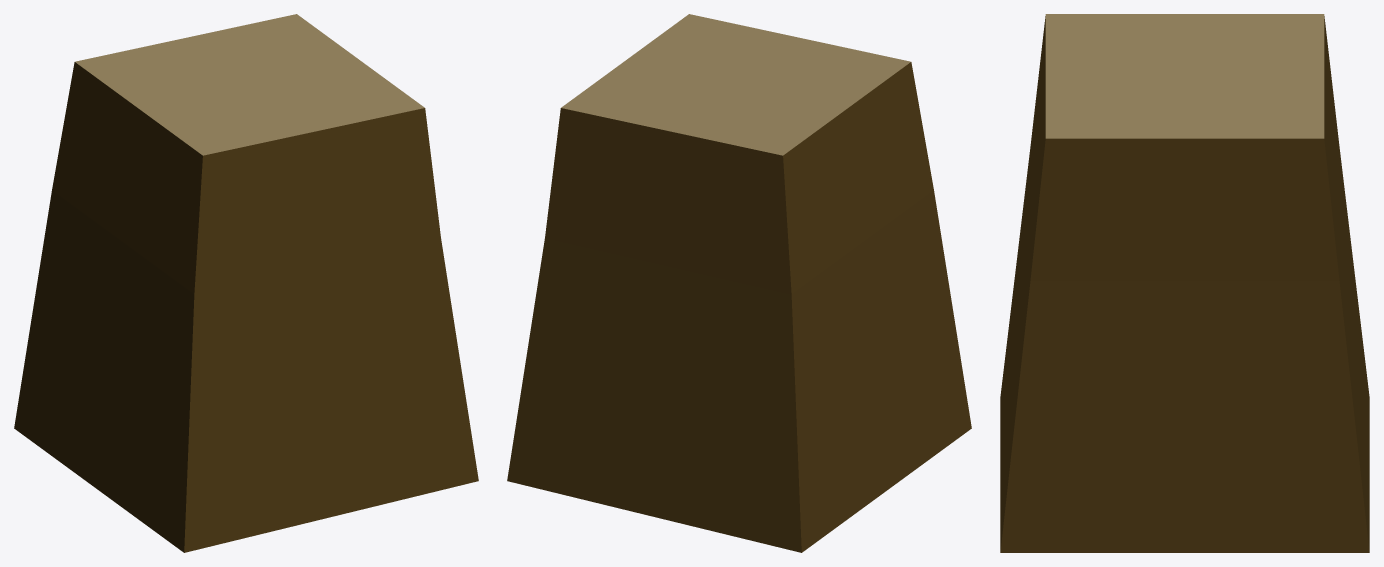
Rendered from Tree_Poplar_Stump.fbx.
3 views of the same model, side by side, from view 1: azimuth 30°, elevation 25°; view 2: azimuth 150°, elevation 25°; view 3: azimuth 270°, elevation 25° (orthographic). The views are drawn at different scales.
Parts seen in each view (by area): view 1: Tree_Poplar_Stump; view 2: Tree_Poplar_Stump; view 3: Tree_Poplar_Stump.
Part boxes in pixels (x1=…): Tree_Poplar_Stump: x1=14, y1=14, x2=478, y2=552; Tree_Poplar_Stump: x1=507, y1=14, x2=971, y2=552; Tree_Poplar_Stump: x1=1000, y1=14, x2=1369, y2=552.
Size of the model in its own units: 50 by 60.37 by 50.
